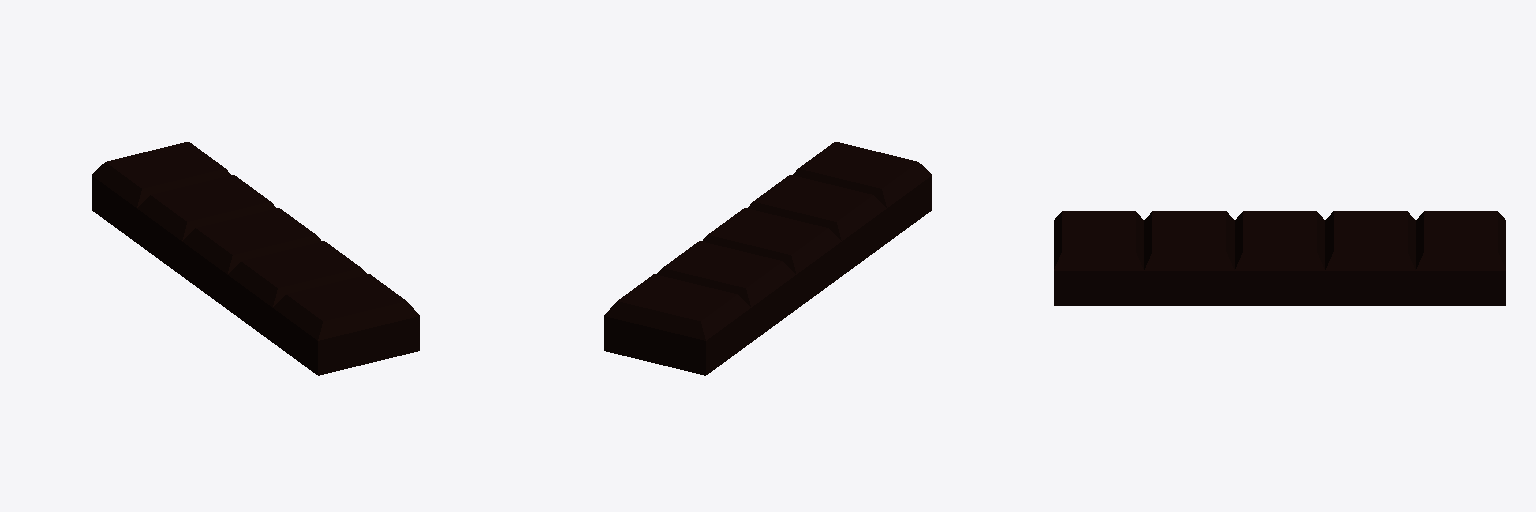
File: 1carreChocolate.obj
The picture shows the model from 3 angles: view 1: azimuth 30°, elevation 25°; view 2: azimuth 150°, elevation 25°; view 3: azimuth 270°, elevation 25°; orthographic projection.
Visible parts, largest first — view 1: chocolate_bar; view 2: chocolate_bar; view 3: chocolate_bar.
Part boxes in pixels (x1,y1,x2,y2): chocolate_bar: (92, 142, 419, 375); chocolate_bar: (604, 142, 931, 375); chocolate_bar: (1054, 211, 1505, 305).
Size of the model in its own units: 0.3015 by 0.1382 by 1.16.